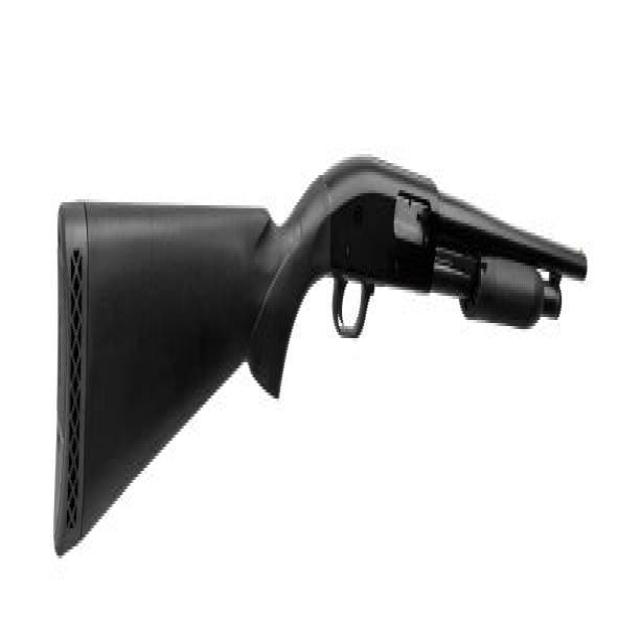rifle: (41, 130, 593, 577)
